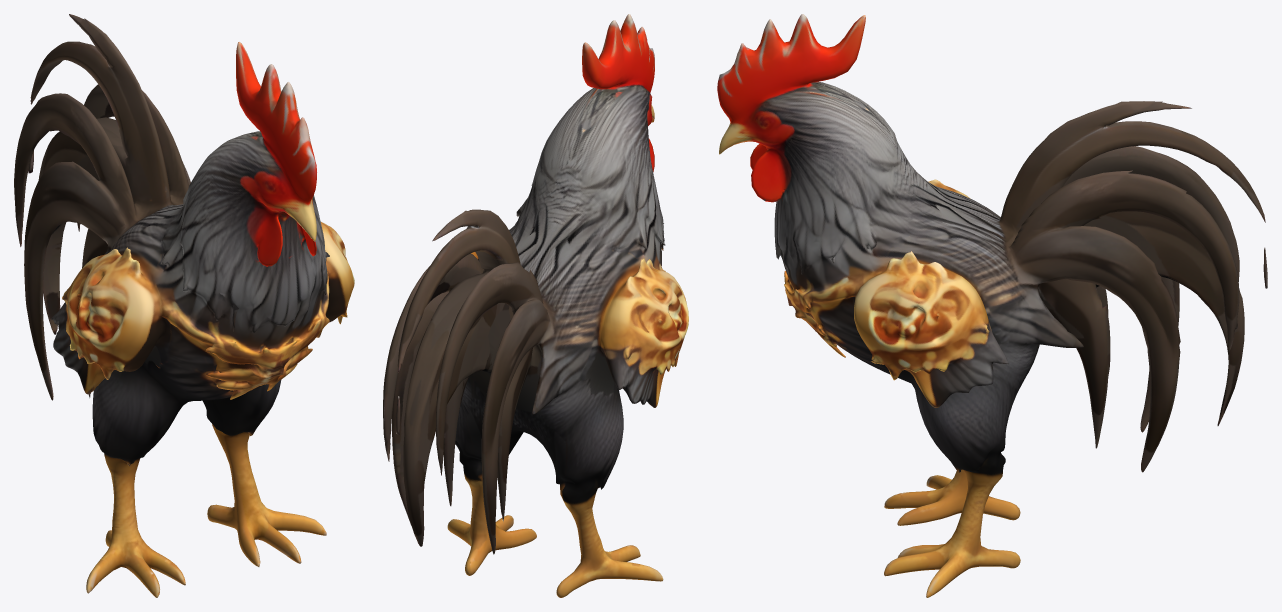
The model's file is clean-boss-rooster.glb.
The picture shows the model from 3 angles, left to right: view 1: azimuth 30°, elevation 25°; view 2: azimuth 150°, elevation 25°; view 3: azimuth 270°, elevation 25°; orthographic projection. The views are drawn at different scales.
Visible parts, largest first — view 1: model; view 2: model; view 3: model.
Part boxes in pixels (left/top/right/bottom): model: left=14, top=14, right=354, bottom=597; model: left=383, top=14, right=688, bottom=597; model: left=717, top=14, right=1267, bottom=597.
Size of the model in its own units: 0.9458 by 1.89 by 1.78.
1 material, 1 textured.
